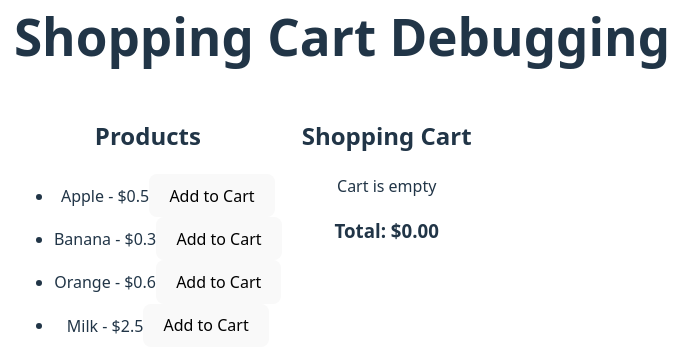
Test: ShoppingCartApp › prevents negative quantity
Click the button "Add to Cart" in the row of "Apple" at (212, 196), box top-left (149, 174), bottom-right (275, 217)
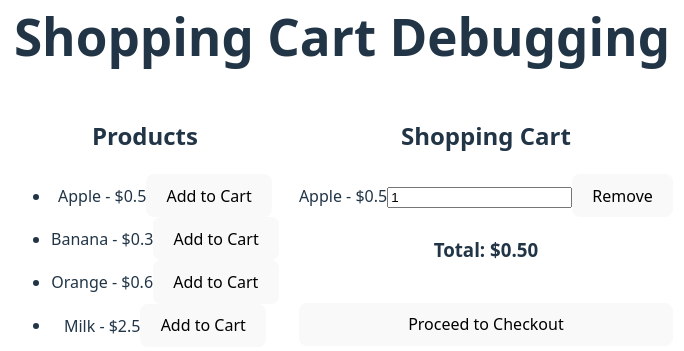
Replace the text in the number field with "-1" at (480, 197), box top-left (387, 187), bottom-right (572, 208)
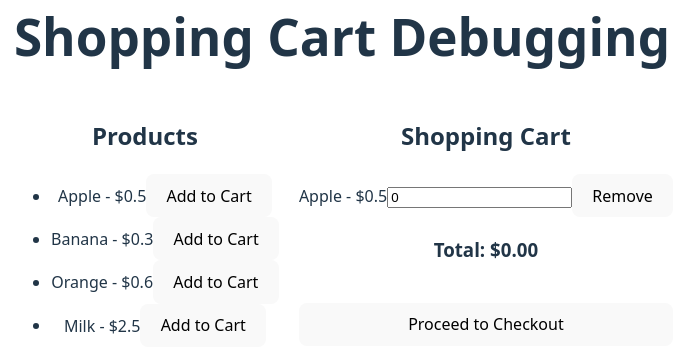
Result: the number field does not hold "-1" at top-left (387, 187), bottom-right (572, 208)
